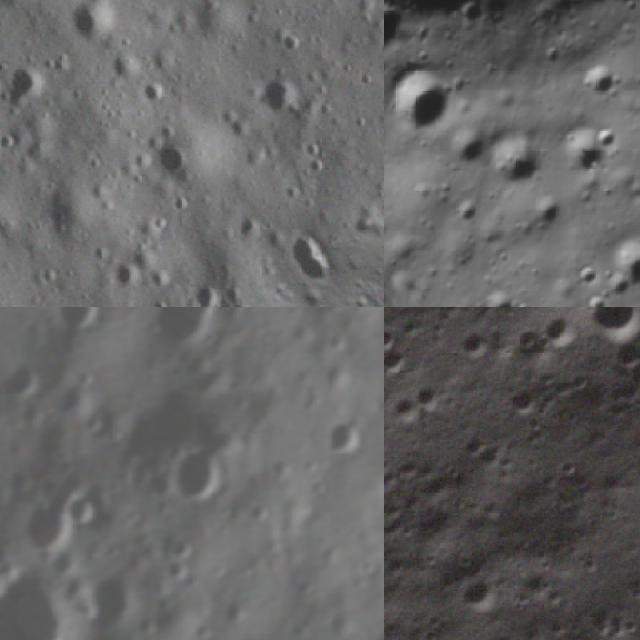crater: (387, 60, 473, 141), (0, 573, 87, 640), (480, 129, 552, 193), (77, 567, 143, 631), (168, 444, 232, 509), (569, 307, 640, 364), (149, 307, 224, 359), (321, 405, 372, 470), (0, 52, 51, 115), (448, 570, 503, 627), (273, 216, 330, 269), (460, 307, 603, 328), (60, 0, 119, 49), (526, 198, 579, 246), (0, 354, 44, 409), (254, 71, 303, 120), (145, 131, 193, 180), (579, 57, 627, 106), (408, 372, 459, 418), (384, 333, 423, 393), (560, 127, 609, 174), (99, 250, 142, 296), (132, 64, 176, 107), (476, 277, 536, 307), (53, 307, 104, 339), (60, 495, 102, 532), (384, 0, 409, 61), (617, 242, 640, 296), (190, 277, 229, 307), (274, 25, 306, 59), (384, 313, 407, 356), (167, 530, 196, 563), (158, 563, 185, 592)
